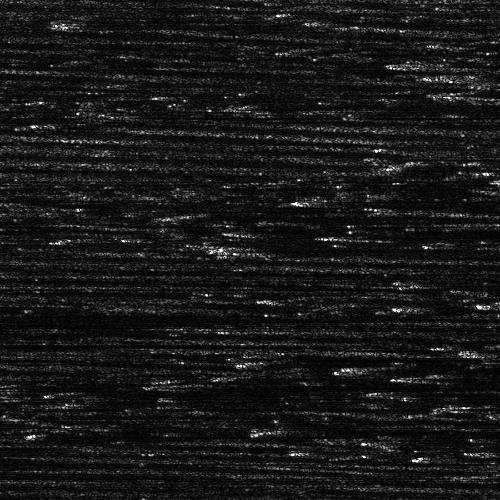object: (219, 352, 292, 365), (154, 210, 237, 219), (299, 192, 362, 201), (327, 366, 400, 371), (229, 246, 270, 251), (0, 411, 37, 416)
shadow: (0, 313, 364, 322), (256, 352, 438, 365), (196, 210, 369, 219), (331, 192, 418, 201), (364, 366, 456, 371), (250, 246, 341, 251), (5, 411, 91, 416), (0, 340, 49, 347), (0, 326, 33, 333), (0, 226, 35, 229)
